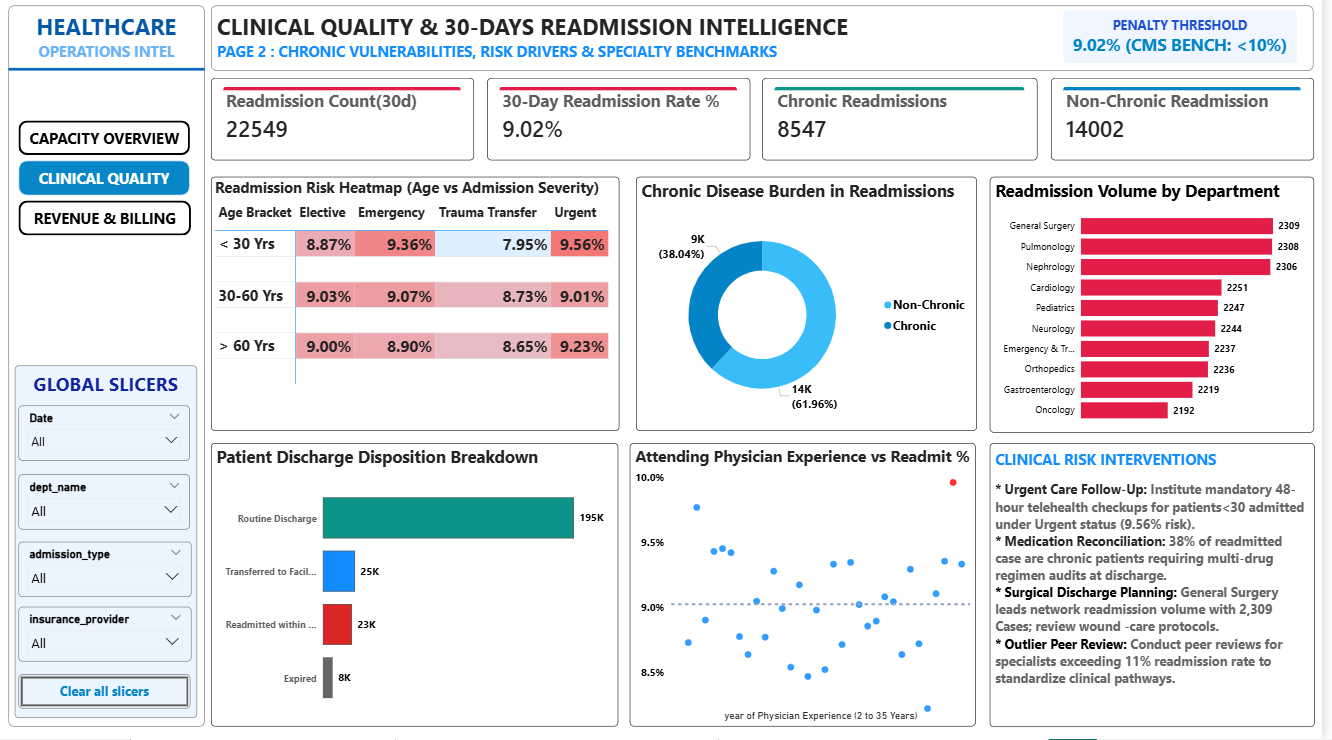

The page's visual inventory and layout, read from the dashboard file:
{"tool":"powerbi","page":{"name":"Clinical Quality & 30-Days Readmissions","canvas":[1920,1080],"ordinal":1},"visuals":[{"type":"textbox","box":[18.1,18.1,284.1,1044.2],"z":0},{"type":"textbox","box":[311.3,18.1,1596.1,94.1],"z":1000},{"type":"textbox","box":[27.1,539.3,264.2,510.3],"z":2000},{"type":"slicer","fields":{"Values":["Dim_Calendar.Date"]},"box":[33.4,596.9,248.3,80],"z":3000},{"type":"slicer","fields":{"Values":["healthcare dim_departments.dept_name"]},"box":[33.4,697,248.3,80],"z":4000},{"type":"slicer","fields":{"Values":["healthcare clean_fact_admission.admission_type"]},"box":[33.4,795.1,250.4,80],"z":5000},{"type":"slicer","fields":{"Values":["healthcare clean_dim_patients.insurance_provider"]},"box":[33.4,889,250.4,79.3],"z":6000},{"type":"actionButton","box":[32.9,985.9,249.1,49.4],"z":7000},{"type":"actionButton","box":[33.4,184,248.3,50.1],"z":8000},{"type":"actionButton","box":[33,242,247.9,50.7],"z":9000},{"type":"actionButton","box":[33,300,249.7,50.7],"z":10000},{"type":"cardVisual","title":"30-Days Readmission Rate %","fields":{"Data":["Measure.30d Readmission Rate %"]},"box":[712,123.4,380.9,119],"z":11000},{"type":"pivotTable","title":"Readmission Risk Heatmap (Age vs Admission Severity)","fields":{"Rows":["healthcare clean_dim_patients.Age Bracket"],"Columns":["healthcare clean_fact_admission.admission_type"],"Values":["Measure.30d Readmission Rate %"]},"box":[311.6,266.2,590.8,367.9],"z":12000},{"type":"donutChart","title":"Chronic Disease Burden in Readmissions","fields":{"Y":["Measure.Readmission Count(30d)"],"Category":["healthcare clean_dim_patients.Chronic vs Non-Chronic"]},"box":[926.3,266.2,493.4,367.9],"z":13000},{"type":"cardVisual","title":"30-Days Readmission Rate %","fields":{"Data":["Measure.Readmission Count(30d)"]},"box":[311.6,123.4,380.9,119],"z":14000},{"type":"cardVisual","title":"30-Days Readmission Rate %","fields":{"Data":["Measure.Chronic Readmissions"]},"box":[1110.2,123.4,398.2,119],"z":15000},{"type":"cardVisual","title":"30-Days Readmission Rate %","fields":{"Data":["Measure.Non Chronic Readmission"]},"box":[1527.9,123.4,380.9,119],"z":16000},{"type":"clusteredBarChart","title":"Readmission Volume by Department","fields":{"Category":["healthcare dim_departments.dept_name"],"Y":["Measure.Readmission Count(30d)"]},"box":[1439.2,266.2,469.6,370.1],"z":17000},{"type":"clusteredBarChart","title":"Patient Discharge Disposition Breakdown","fields":{"Category":["healthcare clean_fact_admission.discharge_status"],"Y":["Measure.Total Admission"]},"box":[311.3,651.5,589.9,410.8],"z":18000},{"type":"scatterChart","title":"Attending Physician Experience vs Readmit %","fields":{"X":["healthcare dim_physicians.years_experience"],"Y":["Measure.30d Readmission Rate %"]},"box":[917.9,651.5,500.9,410.8],"z":19000},{"type":"textbox","box":[1439,651,470,411],"z":20000},{"type":"textbox","box":[1545.2,26,337.6,75.7],"z":21000},{"type":"shape","box":[17.7,101,284.1,18.1],"z":22000}]}

Visuals, with their boxes in screenshot pixels (x1, y1, x2, y2), scaled from the page's 1920x1080 canvas onto the 1332x740 screenshot:
textbox: select_region(13, 12, 210, 728)
textbox: select_region(216, 12, 1323, 77)
textbox: select_region(19, 370, 202, 719)
slicer - Dim_Calendar.Date: select_region(23, 409, 195, 464)
slicer - healthcare dim_departments.dept_name: select_region(23, 478, 195, 532)
slicer - healthcare clean_fact_admission.admission_type: select_region(23, 545, 197, 600)
slicer - healthcare clean_dim_patients.insurance_provider: select_region(23, 609, 197, 663)
actionButton: select_region(23, 676, 196, 709)
actionButton: select_region(23, 126, 195, 160)
actionButton: select_region(23, 166, 195, 201)
actionButton: select_region(23, 206, 196, 240)
"30-Days Readmission Rate %" cardVisual: select_region(494, 85, 758, 166)
"Readmission Risk Heatmap (Age vs Admission Severity)" pivotTable: select_region(216, 182, 626, 434)
"Chronic Disease Burden in Readmissions" donutChart: select_region(643, 182, 985, 434)
"30-Days Readmission Rate %" cardVisual: select_region(216, 85, 480, 166)
"30-Days Readmission Rate %" cardVisual: select_region(770, 85, 1046, 166)
"30-Days Readmission Rate %" cardVisual: select_region(1060, 85, 1324, 166)
"Readmission Volume by Department" clusteredBarChart: select_region(998, 182, 1324, 436)
"Patient Discharge Disposition Breakdown" clusteredBarChart: select_region(216, 446, 625, 728)
"Attending Physician Experience vs Readmit %" scatterChart: select_region(637, 446, 984, 728)
textbox: select_region(998, 446, 1324, 728)
textbox: select_region(1072, 18, 1306, 70)
shape: select_region(12, 69, 209, 82)
